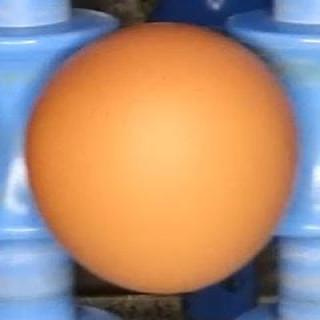Telur: (14, 20, 300, 296)
